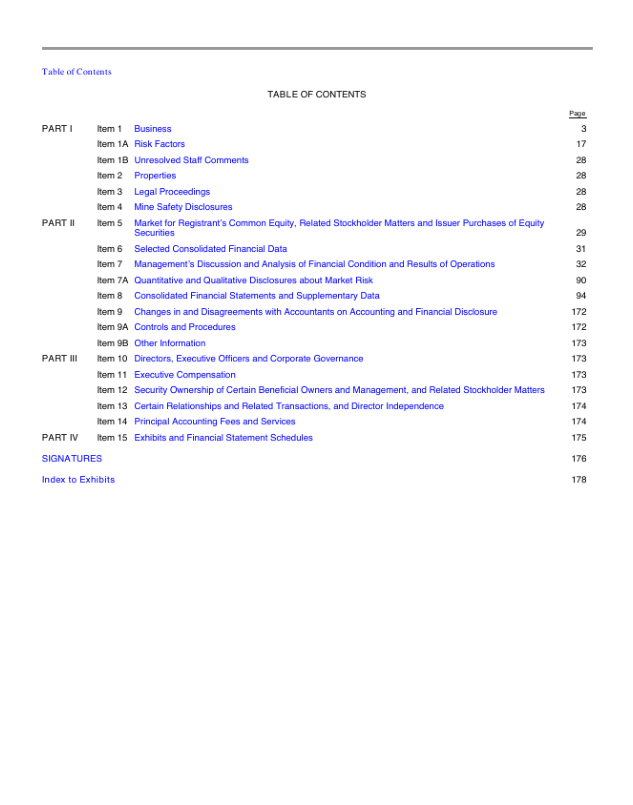table: (43, 84, 591, 496)
